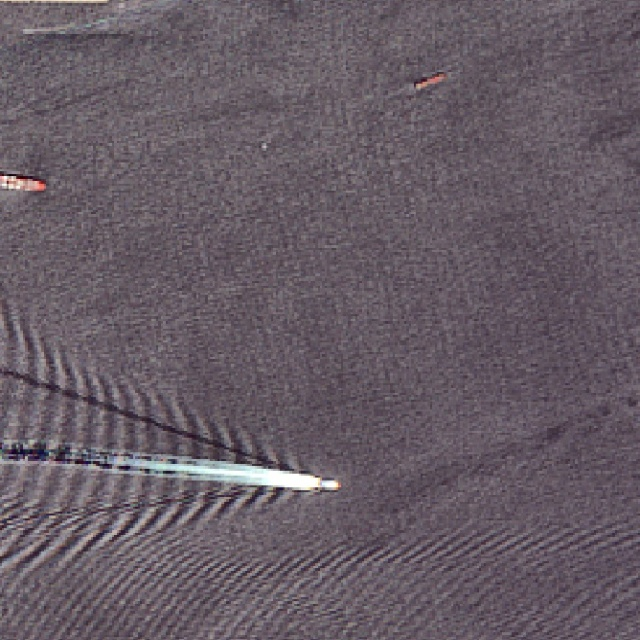wake: (22, 352, 356, 582)
